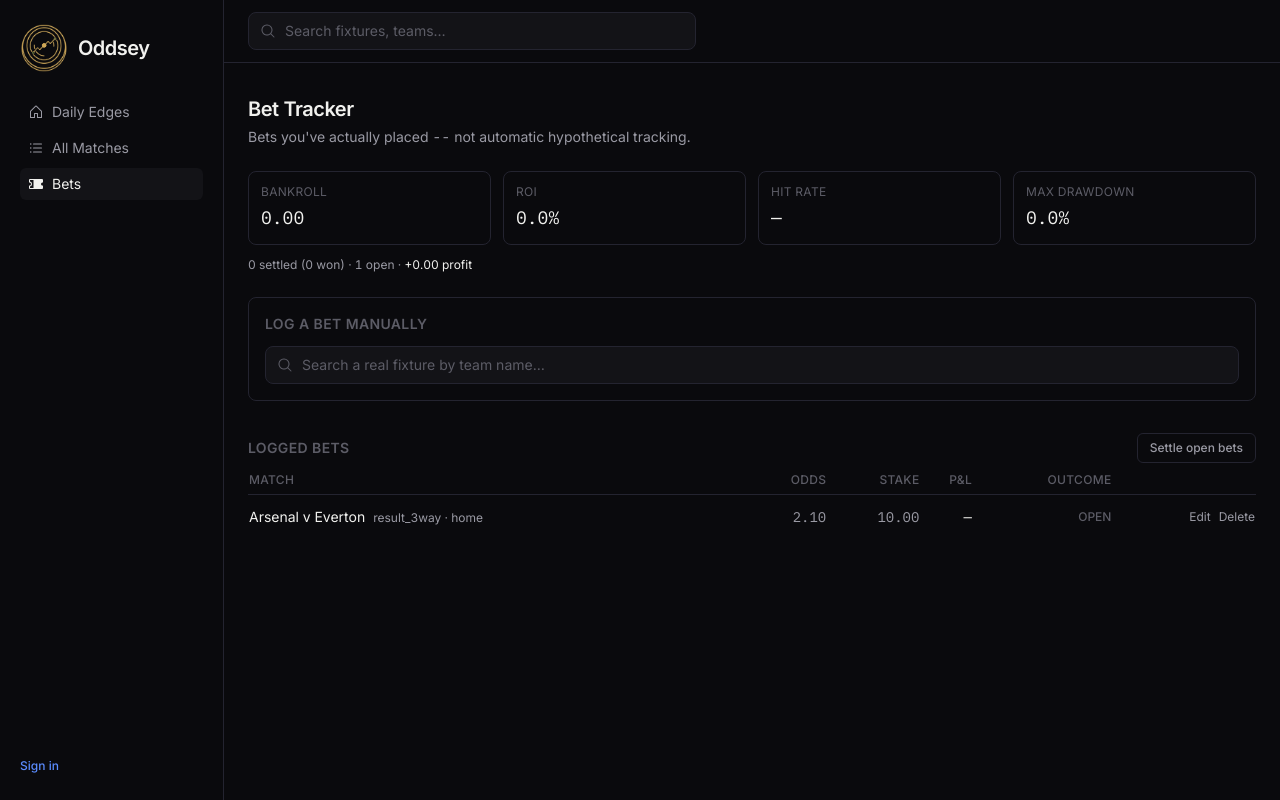
BetTrackerPage lets a user edit their own logged bet (W216) › clicking Cancel on the edit form discards changes and leaves the bet unchanged
The width and height of the screenshot is (1280, 800).
Expected: the text "Arsenal v Everton" is shown, [249,508,483,525]
Click the button with aria-label "edit bet": (1200, 517) [1189,509,1211,525]
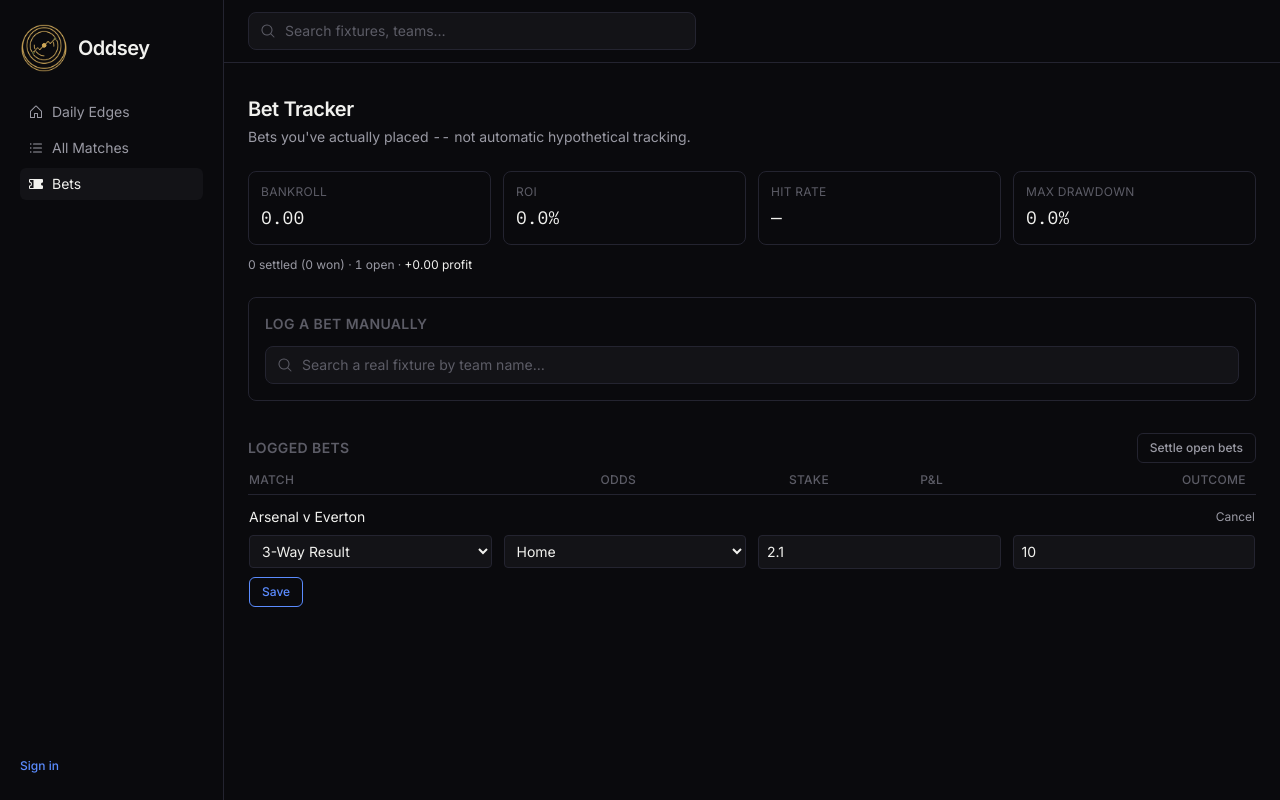
Replace the text in the 2nd field named "edit stake" with "999": (1134, 552) [1012,535,1255,569]
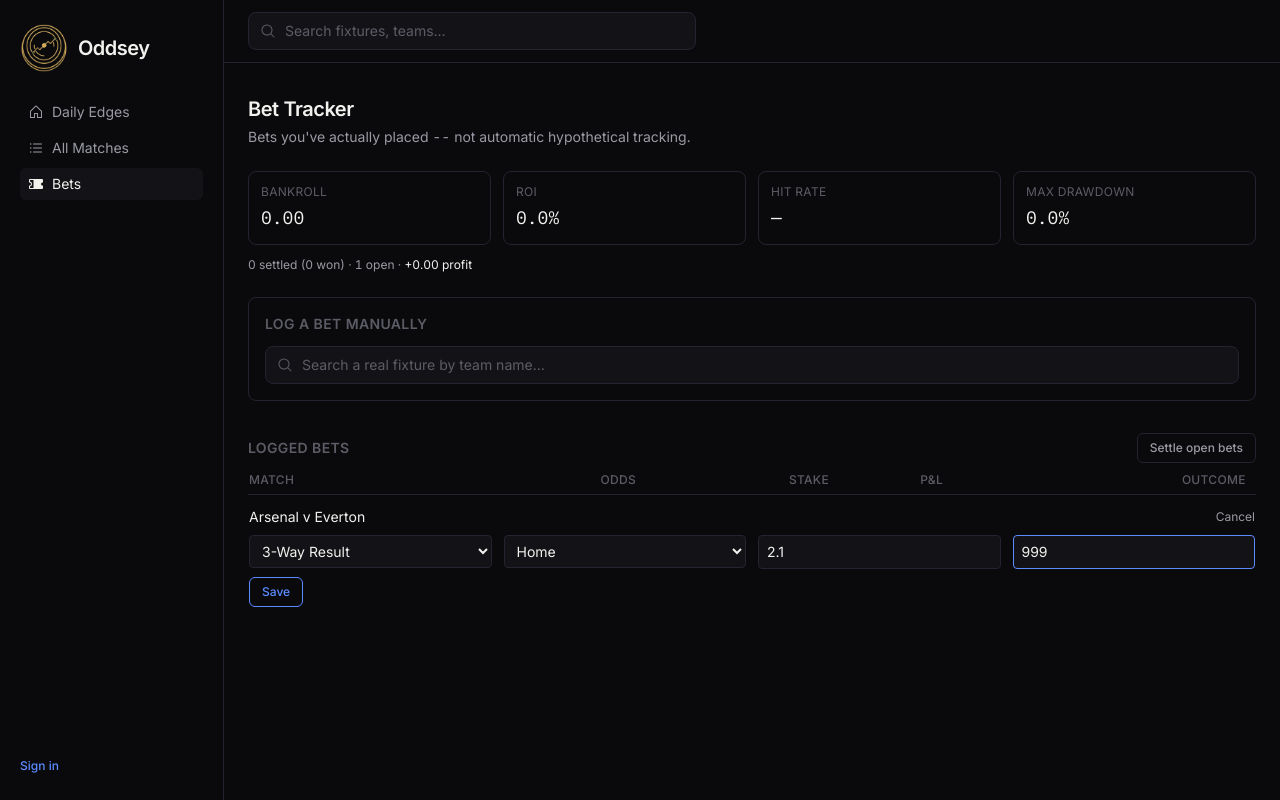
Click the button with aria-label "cancel bet edit": (1235, 517) [1216,509,1255,525]
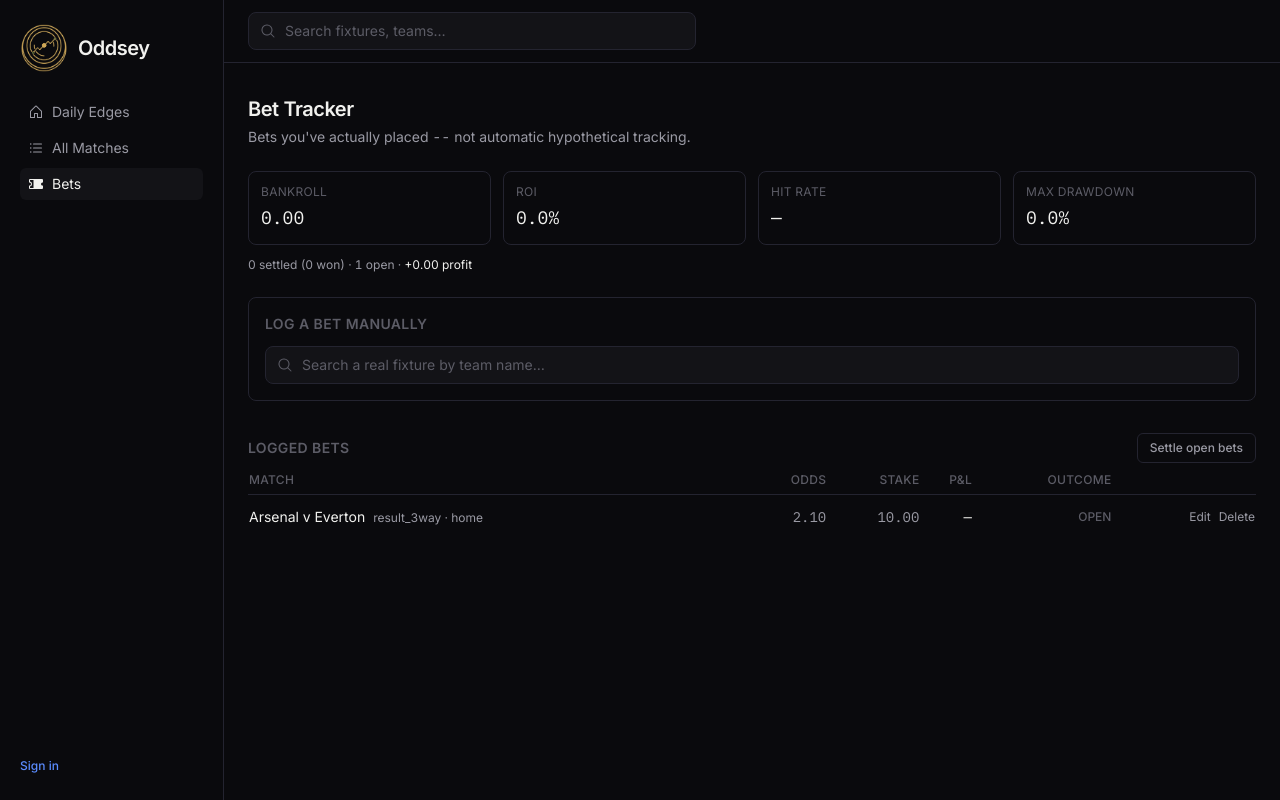
Expected: the text "10.00" is shown, [827,494,920,539]
Expected: the field labelled "edit stake" is gone
